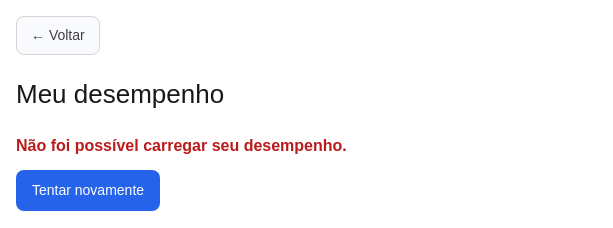
Test: PainelDesempenho › permite tentar novamente após erro e apresenta ausência de histórico
Later steps or results of the test are not shown.
Expected: the message reads "Não foi possível carregar seu desempenho.", [16,137,347,154]
What coordinates should you click on to do the following:
click the button "Tentar novamente"
I would click on:
 (88, 190)
Its box is [16,170,160,211].
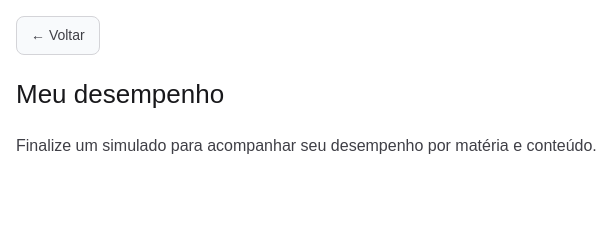
Expected: the text "Finalize um simulado" is shown, [16,137,597,154]
